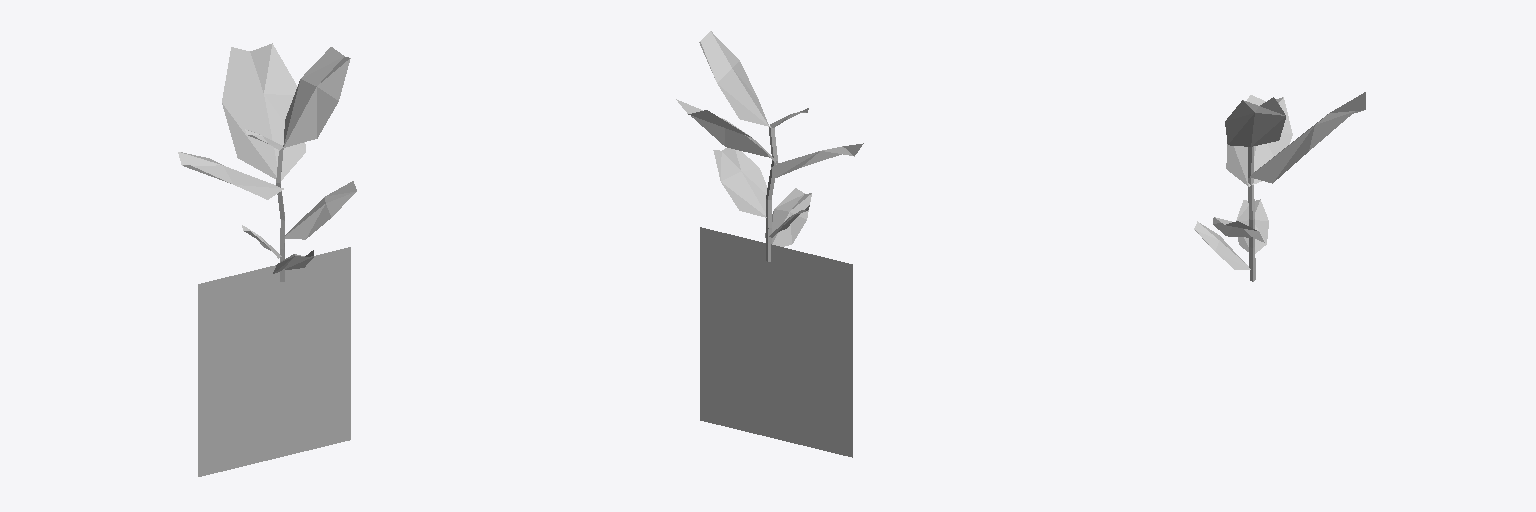
The model's file is MODEL_waratahSeedling_2.obj.
The picture shows the model from 3 angles: view 1: azimuth 30°, elevation 25°; view 2: azimuth 150°, elevation 25°; view 3: azimuth 270°, elevation 25°; orthographic projection.
Parts seen in each view (by area): view 1: gep_waratahSeedling roots, gep_waratahSeedling geo_leaf2, gep_waratahSeedling geo_leaf1, gep_waratahSeedling geo_leaf10, gep_waratahSeedling geo_leaf6, gep_waratahSeedling geo_stalk; view 2: gep_waratahSeedling roots, gep_waratahSeedling geo_leaf1, gep_waratahSeedling geo_leaf6, gep_waratahSeedling geo_leaf2, geo_leaf8 gep_waratahSeedling, gep_waratahSeedling geo_leaf10, gep_waratahSeedling geo_stalk; view 3: gep_waratahSeedling geo_leaf1, gep_waratahSeedling geo_leaf2, gep_waratahSeedling geo_leaf10, gep_waratahSeedling geo_leaf11, geo_leaf8 gep_waratahSeedling, gep_waratahSeedling geo_stalk, gep_waratahSeedling geo_leaf6.
Boxes of the visible parts, box(x1,y1,x2,y2) form: gep_waratahSeedling roots: box(198, 247, 350, 476); gep_waratahSeedling geo_leaf2: box(222, 43, 305, 180); gep_waratahSeedling geo_leaf1: box(283, 47, 350, 147); gep_waratahSeedling geo_leaf10: box(178, 152, 283, 199); gep_waratahSeedling geo_leaf6: box(285, 181, 356, 239); gep_waratahSeedling geo_stalk: box(276, 147, 284, 281); gep_waratahSeedling roots: box(700, 227, 852, 457); gep_waratahSeedling geo_leaf1: box(699, 31, 768, 126); gep_waratahSeedling geo_leaf6: box(713, 148, 767, 217); gep_waratahSeedling geo_leaf2: box(676, 99, 776, 164); geo_leaf8 gep_waratahSeedling: box(765, 188, 811, 246); gep_waratahSeedling geo_leaf10: box(771, 143, 863, 178); gep_waratahSeedling geo_stalk: box(766, 126, 777, 261); gep_waratahSeedling geo_leaf1: box(1225, 97, 1285, 146); gep_waratahSeedling geo_leaf2: box(1250, 92, 1365, 183); gep_waratahSeedling geo_leaf10: box(1226, 95, 1292, 186); gep_waratahSeedling geo_leaf11: box(1236, 199, 1268, 253); geo_leaf8 gep_waratahSeedling: box(1194, 221, 1250, 269); gep_waratahSeedling geo_stalk: box(1248, 146, 1255, 281); gep_waratahSeedling geo_leaf6: box(1213, 217, 1264, 242).
Bounding box in the file's own units: 7.61 × 17.35 × 6.97.